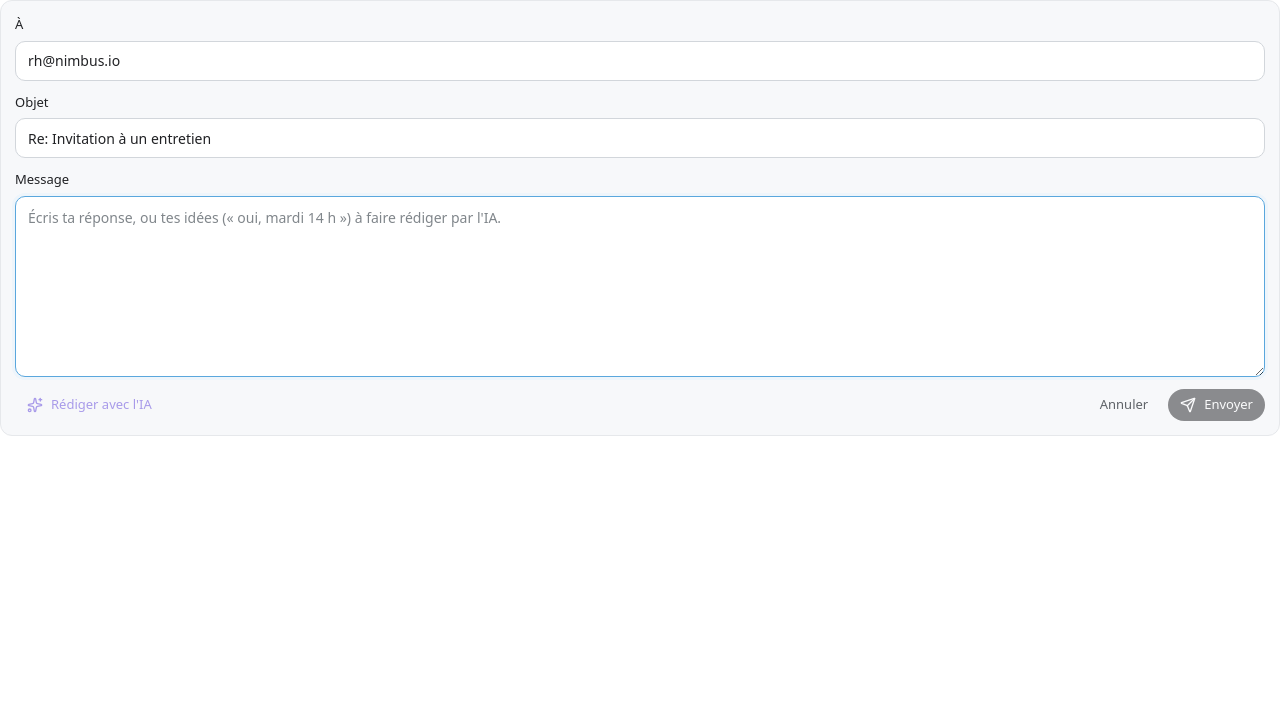
Test case: ReplyComposer › keeps the text and shows why when the model is unavailable
Type "Mes idées" into the text box labelled "Message" at (640, 286), box [15,196,1265,377]
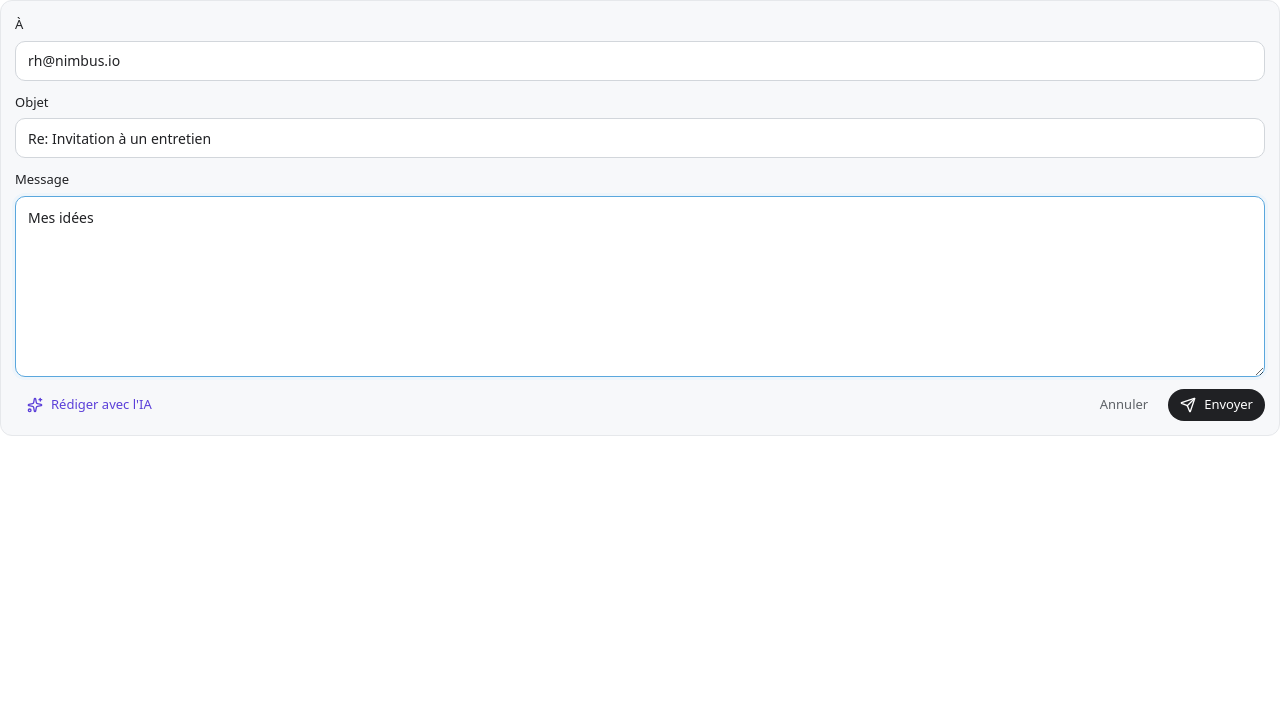
Click the button "Rédiger avec l'IA" at (89, 405), box [15,389,164,421]
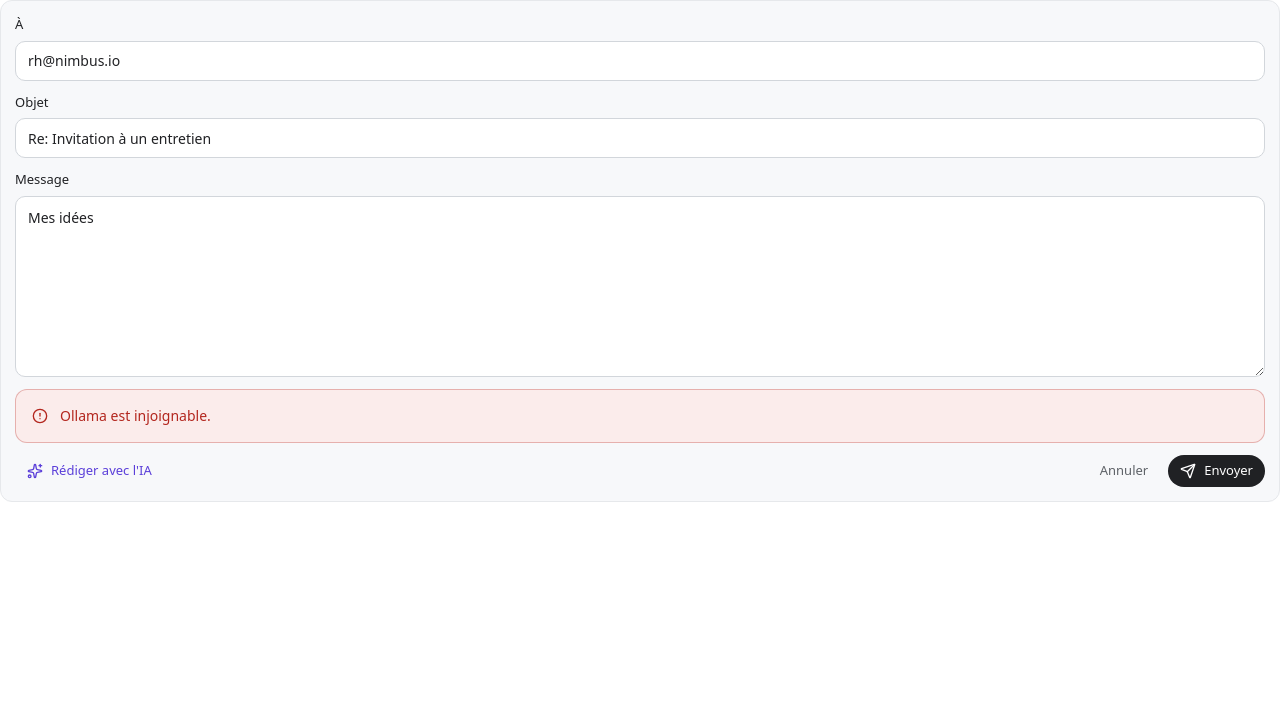
Expected: the text "Ollama est injoignable." is shown, [60,406,211,426]
